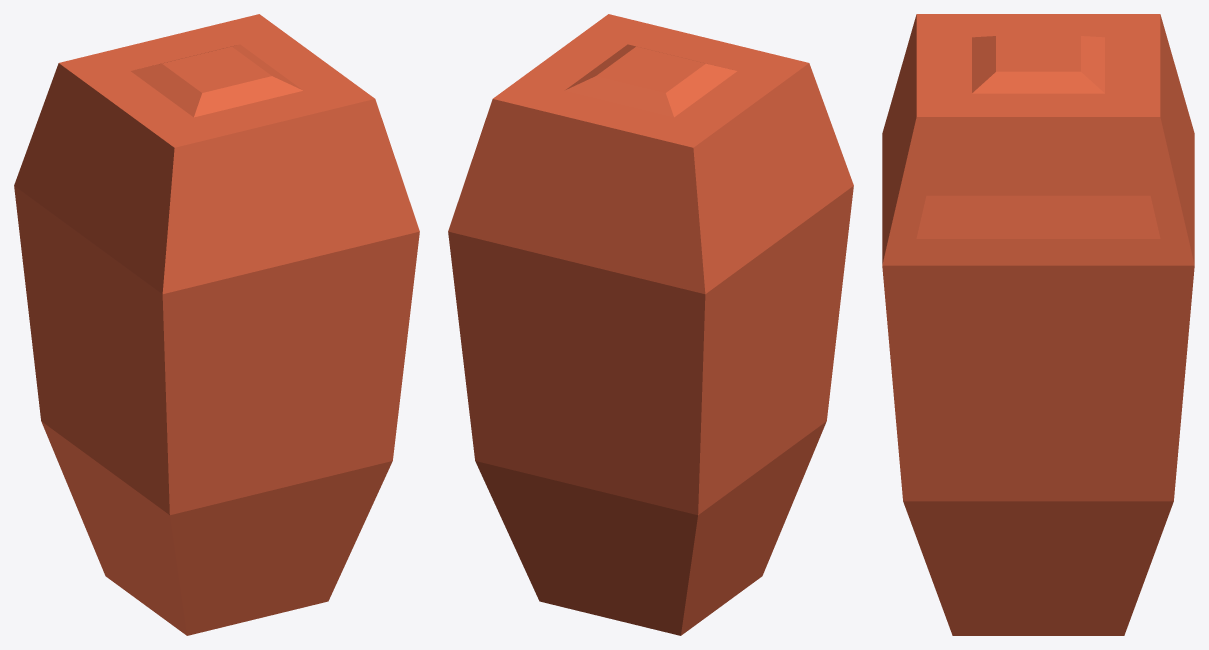
Rendered from CuboBasura.fbx.
The picture shows the model from 3 angles, left to right: view 1: azimuth 30°, elevation 25°; view 2: azimuth 150°, elevation 25°; view 3: azimuth 270°, elevation 25°; orthographic projection. The views are drawn at different scales.
Visible parts, largest first — view 1: Cube; view 2: Cube; view 3: Cube.
Part boxes in pixels (x1=…): Cube: x1=14, y1=14, x2=419, y2=635; Cube: x1=448, y1=14, x2=853, y2=635; Cube: x1=882, y1=14, x2=1194, y2=635.
Bounding box in the file's own units: 182 × 351 × 182.
